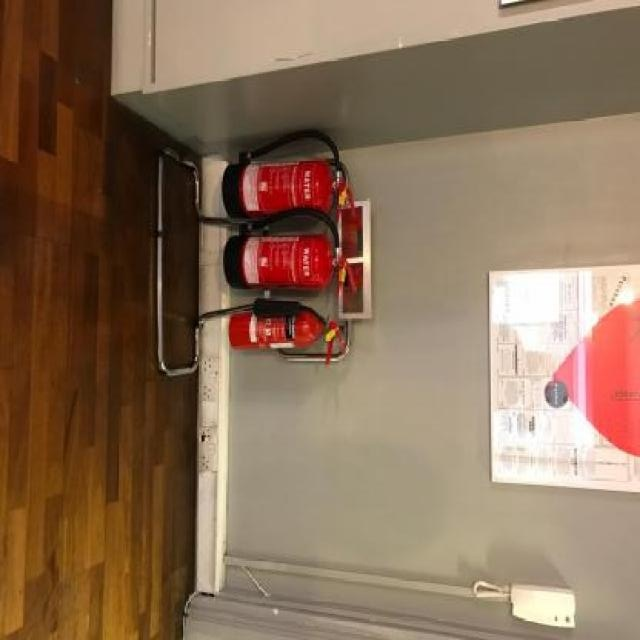fire extinguisher: (222, 206, 356, 302), (221, 129, 357, 223), (228, 298, 349, 365)
